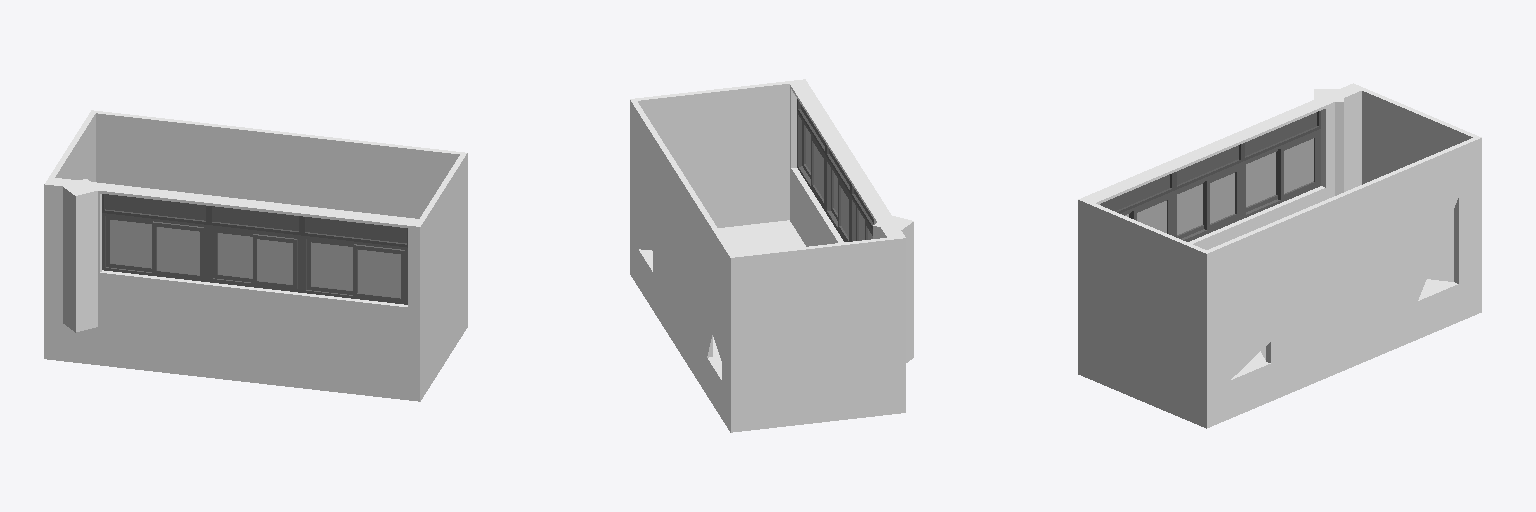
3 renders of one model, left to right at view 1: azimuth 30°, elevation 25°; view 2: azimuth 150°, elevation 25°; view 3: azimuth 270°, elevation 25°, orthographic.
Parts seen in each view (by area): view 1: Mesh3 Group3 Model, Mesh1 Group1 Model, Mesh5 Group5 Model, Mesh6 Group6 Model, Mesh25 Glazing7 Window_Sliding_Casement_4_1 Window_Sliding_2_1 G, Mesh32 Glazing11 Window_Sliding_Casement_4_3 Window_Sliding_2_2 , Mesh22 Glazing5 Window_Sliding_Casement_4 Window_Sliding_2_1 Gro, Mesh29 Glazing9 Window_Sliding_Casement_4_2 Window_Sliding_2_2 G, Mesh4 Group4 Model, Mesh2 Group2 Model, Mesh10 Group13 Group11 Group7 Model, Mesh12 Group16 Group14 Group7 Model (+9 smaller); view 2: Mesh4 Group4 Model, Mesh5 Group5 Model, Mesh1 Group1 Model, Mesh2 Group2 Model, Mesh3 Group3 Model, Mesh6 Group6 Model, Mesh27 Window_Sliding_Main_Frame_2_1 Window_Sliding_2_2 Group7 M; view 3: Mesh1 Group1 Model, Mesh2 Group2 Model, Mesh5 Group5 Model, Mesh3 Group3 Model, Mesh4 Group4 Model, Mesh21 Glazing4 Window_Sliding_Casement_4 Window_Sliding_2_1 Gro, Mesh24 Glazing6 Window_Sliding_Casement_4_1 Window_Sliding_2_1 G, Mesh6 Group6 Model, Mesh17 Glazing2 Window_Sliding_Casement_10_1 Window_Sliding_5_1 , Mesh14 Glazing Window_Sliding_Casement_10 Window_Sliding_5_1 Gro, Mesh10 Group13 Group11 Group7 Model, Mesh12 Group16 Group14 Group7 Model (+6 smaller).
Boxes of the visible parts, x1,y1,x2,y2 form: Mesh3 Group3 Model: [44, 177, 424, 401]; Mesh1 Group1 Model: [90, 110, 467, 290]; Mesh5 Group5 Model: [420, 155, 465, 355]; Mesh6 Group6 Model: [63, 179, 101, 332]; Mesh25 Glazing7 Window_Sliding_Casement_4_1 Window_Sliding_2_1 G: [157, 227, 199, 274]; Mesh32 Glazing11 Window_Sliding_Casement_4_3 Window_Sliding_2_2 : [358, 250, 400, 297]; Mesh22 Glazing5 Window_Sliding_Casement_4 Window_Sliding_2_1 Gro: [110, 220, 151, 267]; Mesh29 Glazing9 Window_Sliding_Casement_4_2 Window_Sliding_2_2 G: [311, 242, 352, 290]; Mesh4 Group4 Model: [49, 113, 95, 181]; Mesh2 Group2 Model: [425, 289, 467, 393]; Mesh10 Group13 Group11 Group7 Model: [105, 194, 205, 220]; Mesh12 Group16 Group14 Group7 Model: [306, 217, 406, 242]; Mesh4 Group4 Model: [735, 238, 888, 393]; Mesh5 Group5 Model: [636, 81, 789, 227]; Mesh1 Group1 Model: [630, 98, 735, 394]; Mesh2 Group2 Model: [630, 220, 888, 432]; Mesh3 Group3 Model: [788, 79, 905, 414]; Mesh6 Group6 Model: [873, 216, 913, 362]; Mesh27 Window_Sliding_Main_Frame_2_1 Window_Sliding_2_2 Group7 M: [797, 111, 825, 211]; Mesh1 Group1 Model: [1202, 136, 1481, 389]; Mesh2 Group2 Model: [1091, 274, 1481, 428]; Mesh5 Group5 Model: [1091, 203, 1205, 387]; Mesh3 Group3 Model: [1078, 83, 1365, 379]; Mesh4 Group4 Model: [1362, 89, 1476, 184]; Mesh21 Glazing4 Window_Sliding_Casement_4 Window_Sliding_2_1 Gro: [1284, 138, 1313, 193]; Mesh24 Glazing6 Window_Sliding_Casement_4_1 Window_Sliding_2_1 G: [1246, 152, 1275, 206]; Mesh6 Group6 Model: [1314, 89, 1343, 195]; Mesh17 Glazing2 Window_Sliding_Casement_10_1 Window_Sliding_5_1 : [1177, 184, 1202, 234]; Mesh14 Glazing Window_Sliding_Casement_10 Window_Sliding_5_1 Gro: [1210, 173, 1234, 223]; Mesh10 Group13 Group11 Group7 Model: [1245, 112, 1316, 155]; Mesh12 Group16 Group14 Group7 Model: [1100, 174, 1169, 210].
Bounding box in the file's own units: 6.7 × 3.2 × 6.7.